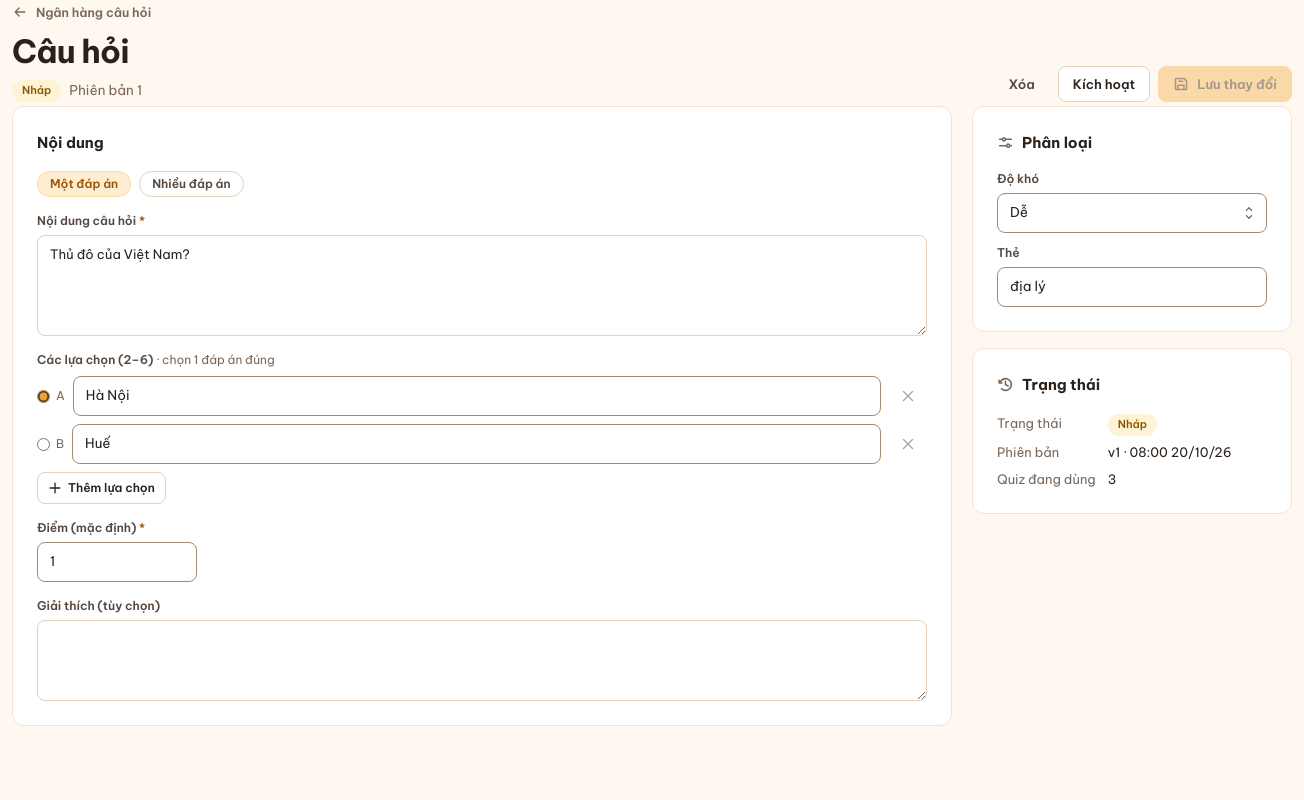
Scenario: QuestionDetailPage (UC 47) › xung đột version thì báo và tải lại
Replace the text in the text box with test id "mcq-editor-stem" with "Câu đã sửa": (482, 286) [37,235,927,336]
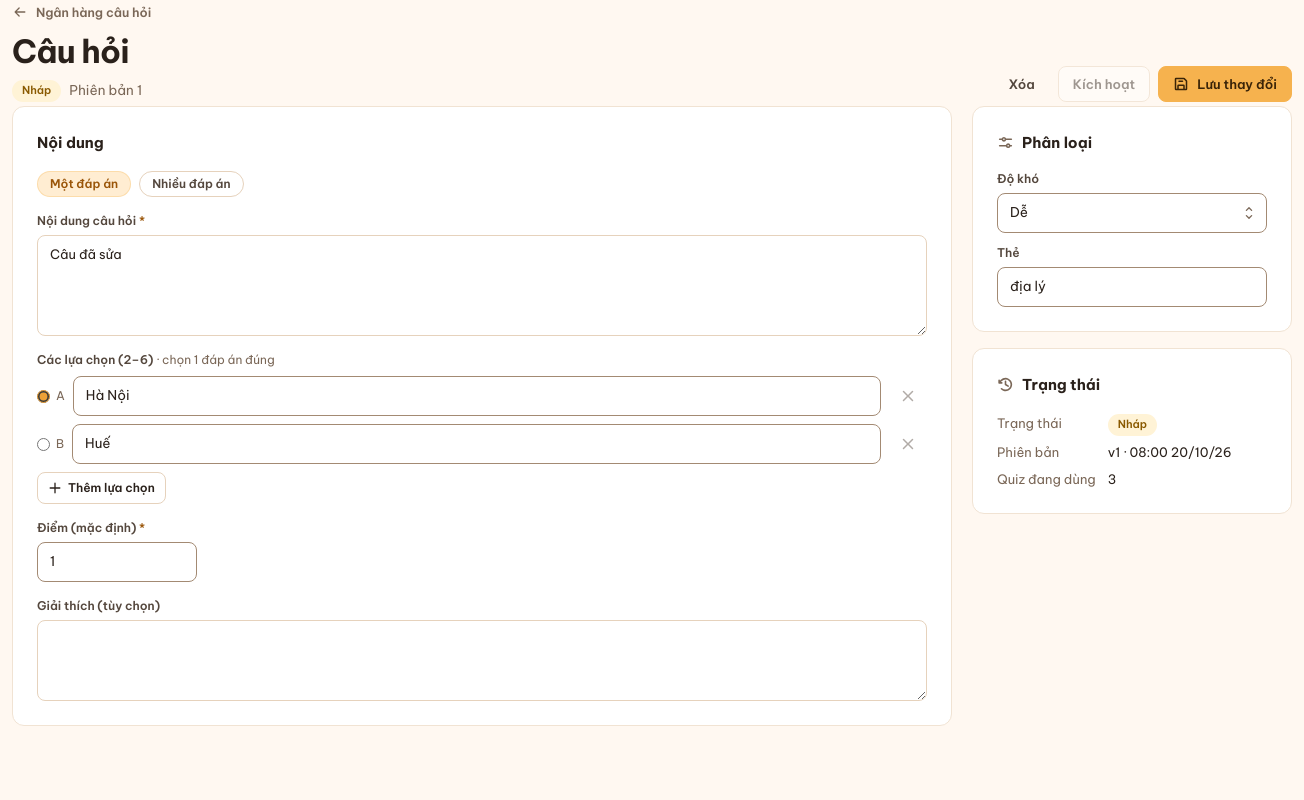
Click the button with test id "question-detail-save": click(1225, 84) [1158,66,1292,102]
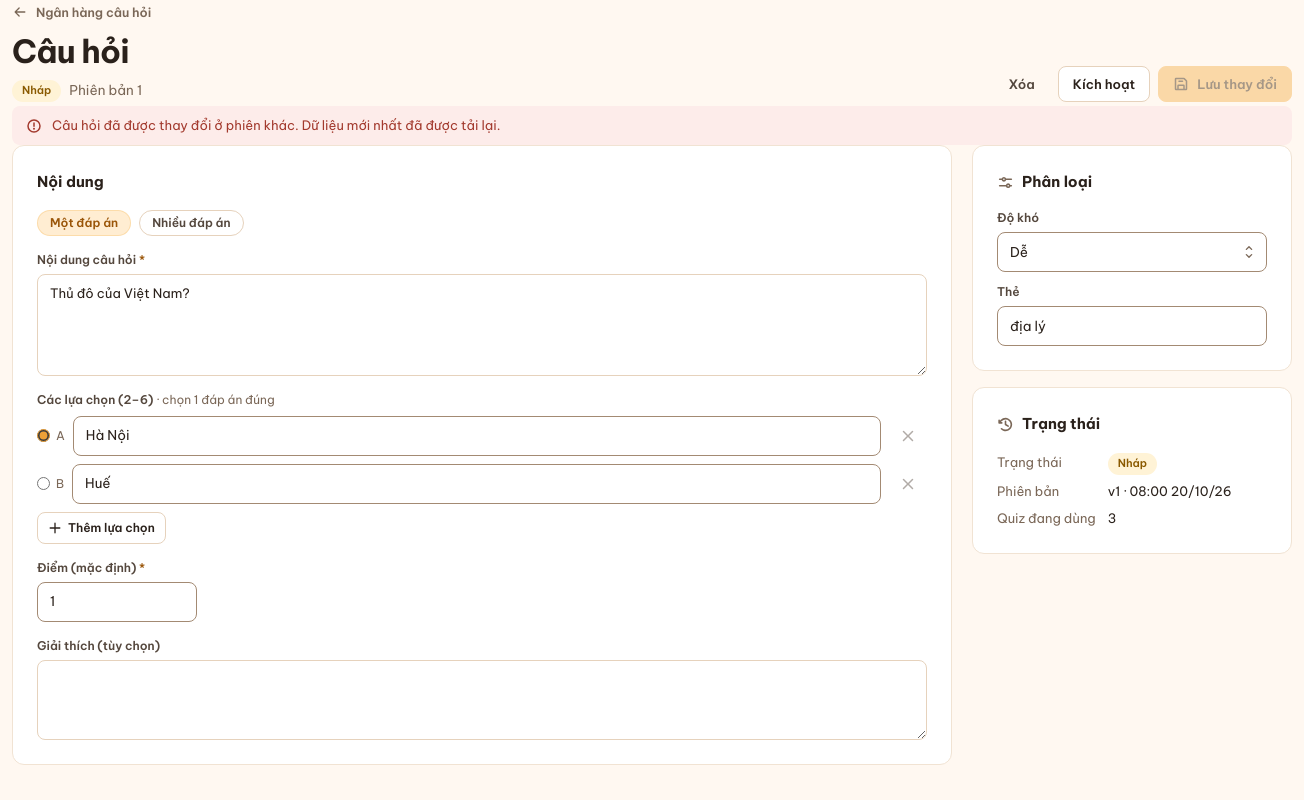
Expected: the text "thay đổi ở phiên khác" is shown, [52,117,500,133]
